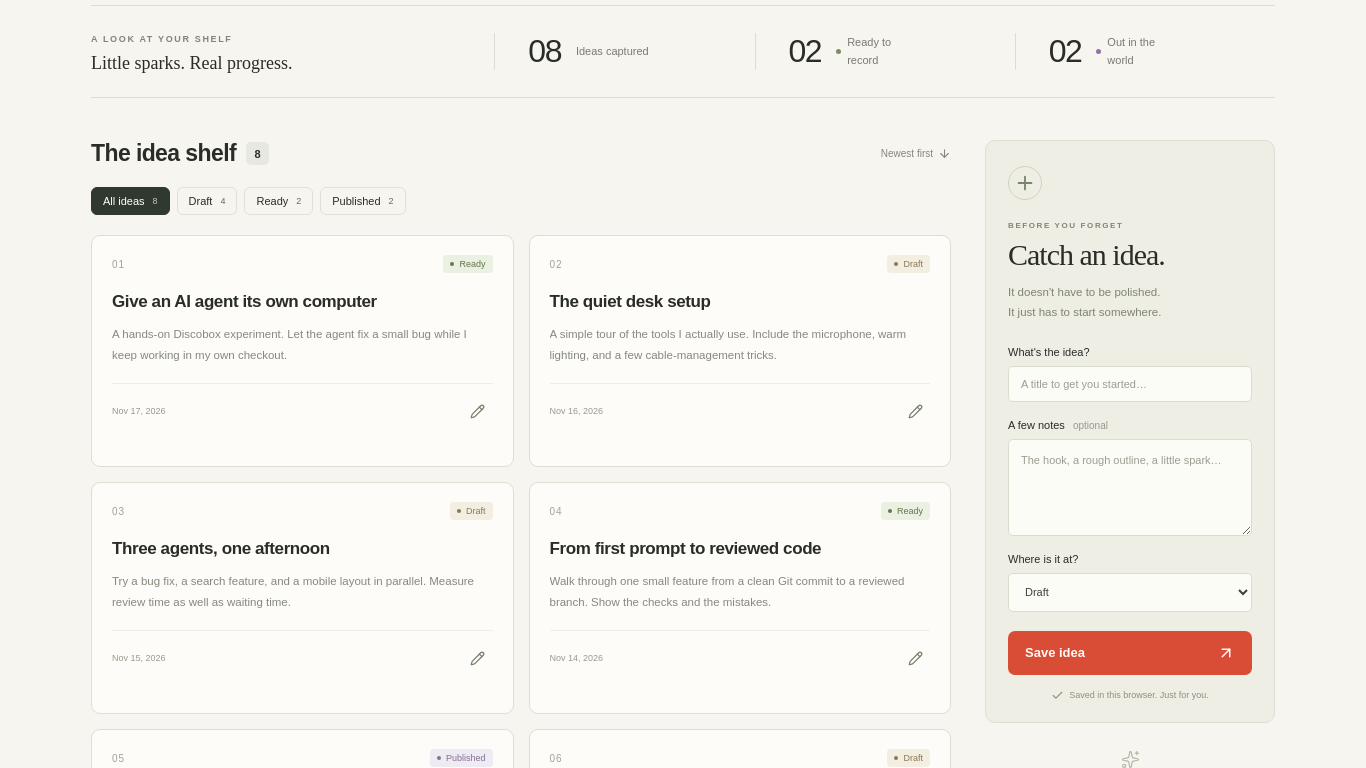
Test: ClipShelf core workflows › adds a valid idea and restores it after remounting
Later steps or results of the test are not shown.
(page scrolled)
Type "A camera comparison" into the field labelled "What's the idea?" at (1130, 384), box [1008, 366, 1252, 402]
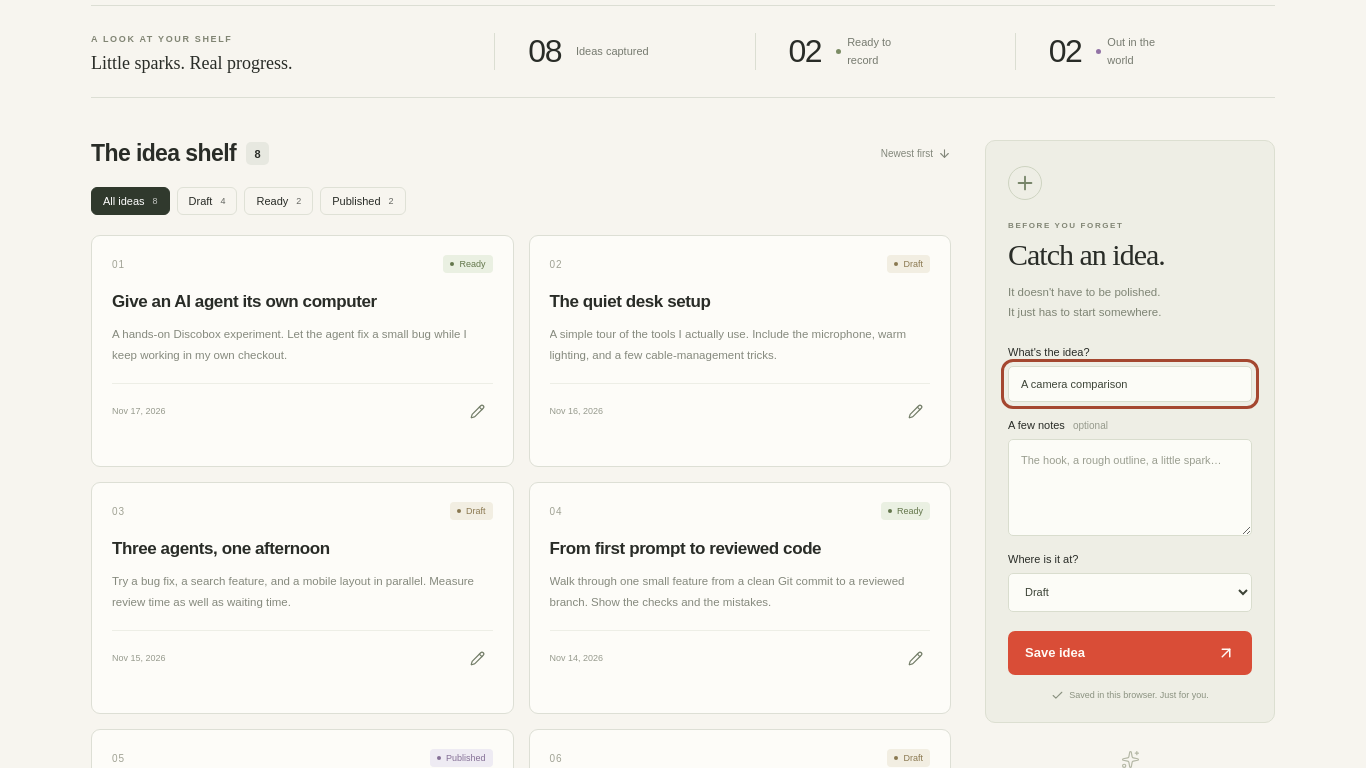
Type "Compare indoor footage." into the text box labelled "A few notes optional" at (1130, 488), box [1008, 439, 1252, 536]
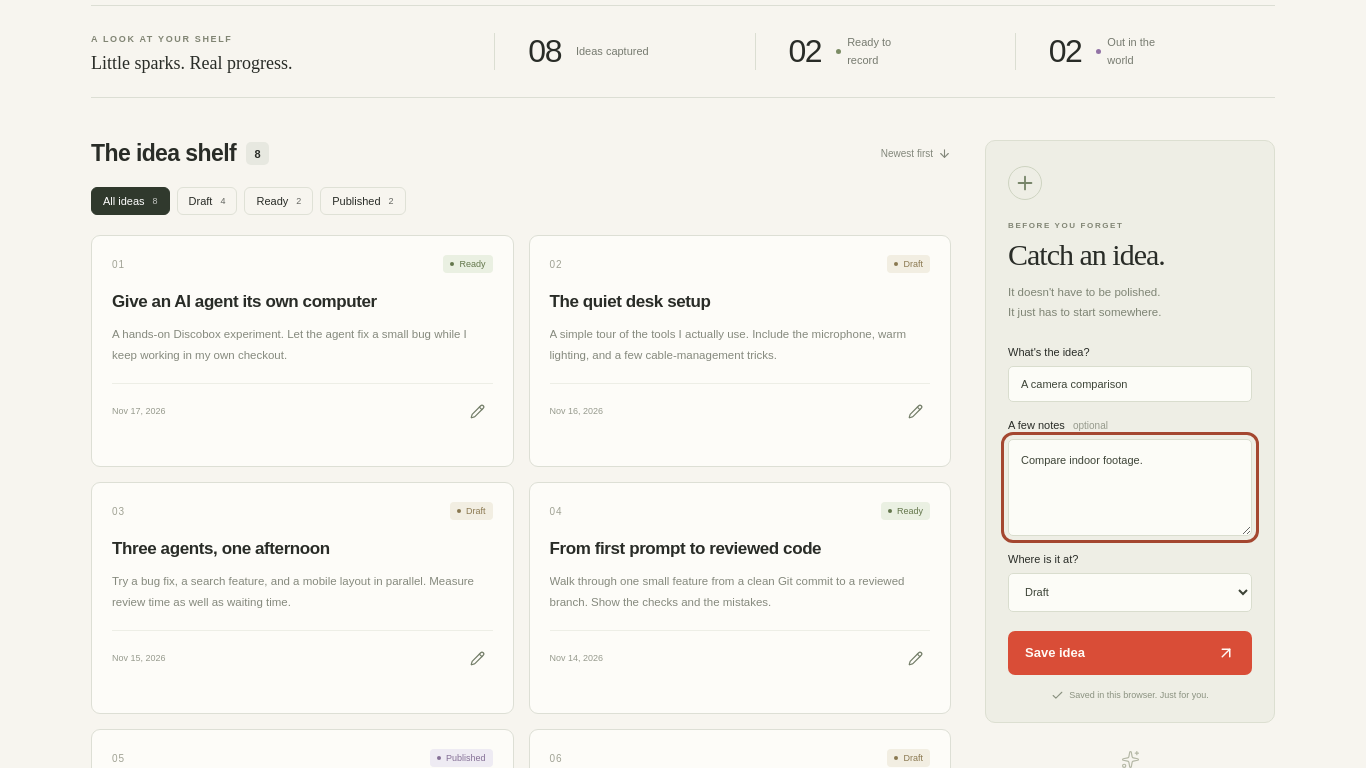
Click the button "Save idea" at (1130, 653), box [1008, 631, 1252, 675]
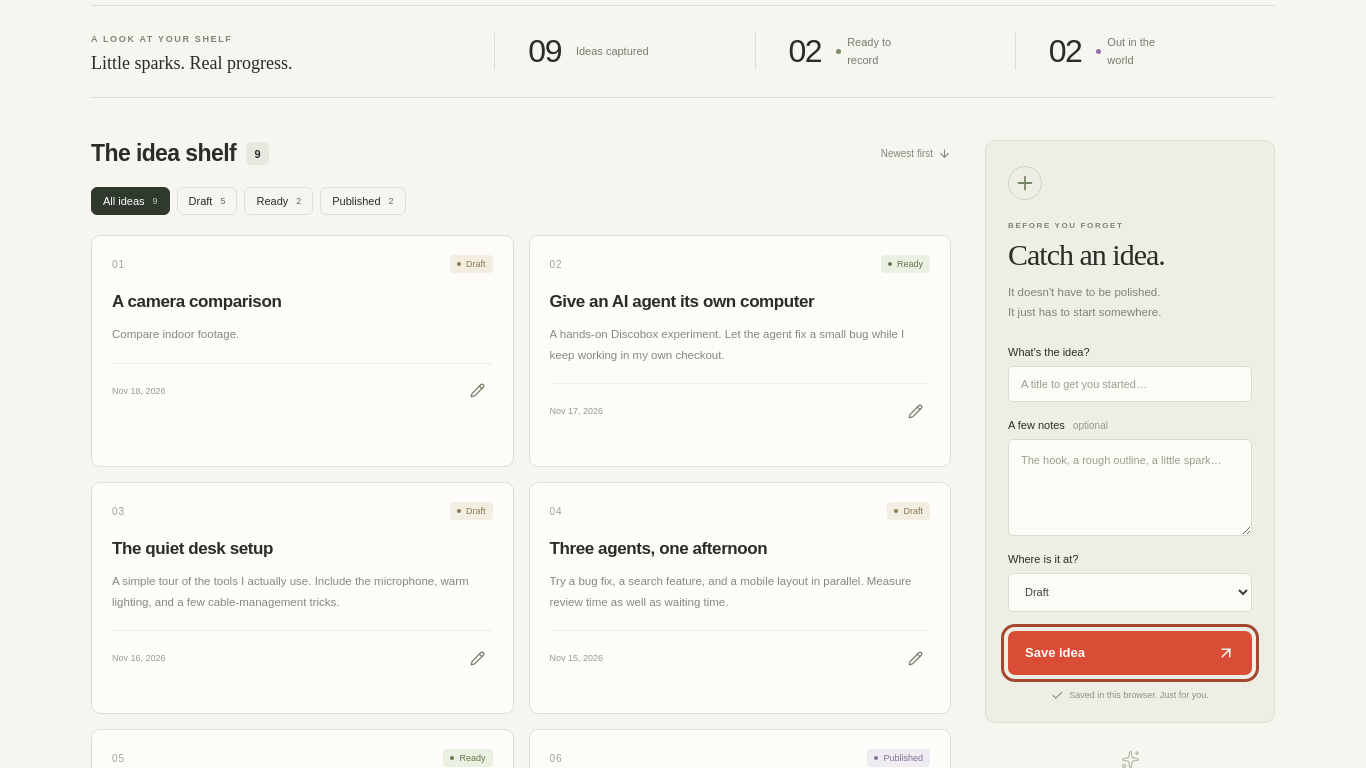
Expected: the heading "A camera comparison" is shown, [112, 292, 281, 311]
